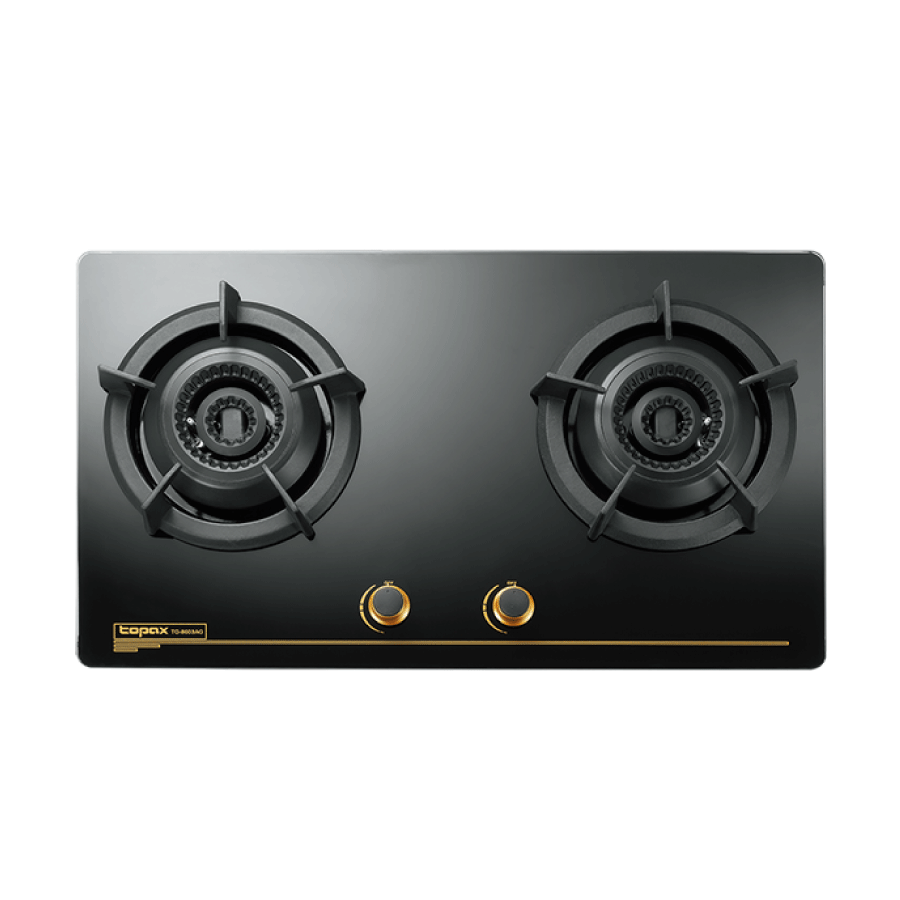gasoven: (66, 241, 840, 678)
